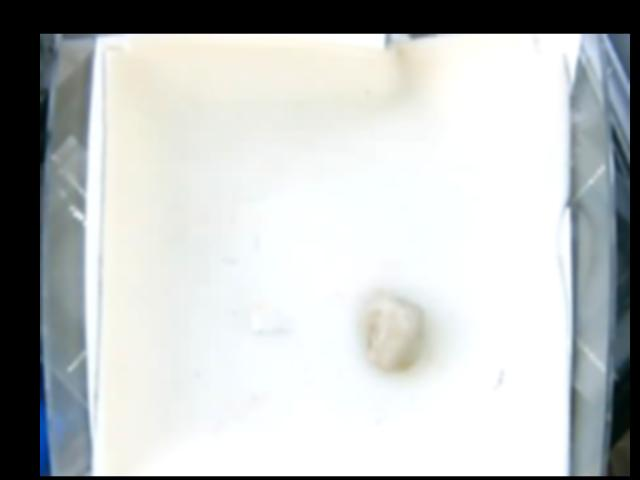Pebble: (362, 292, 426, 372)
